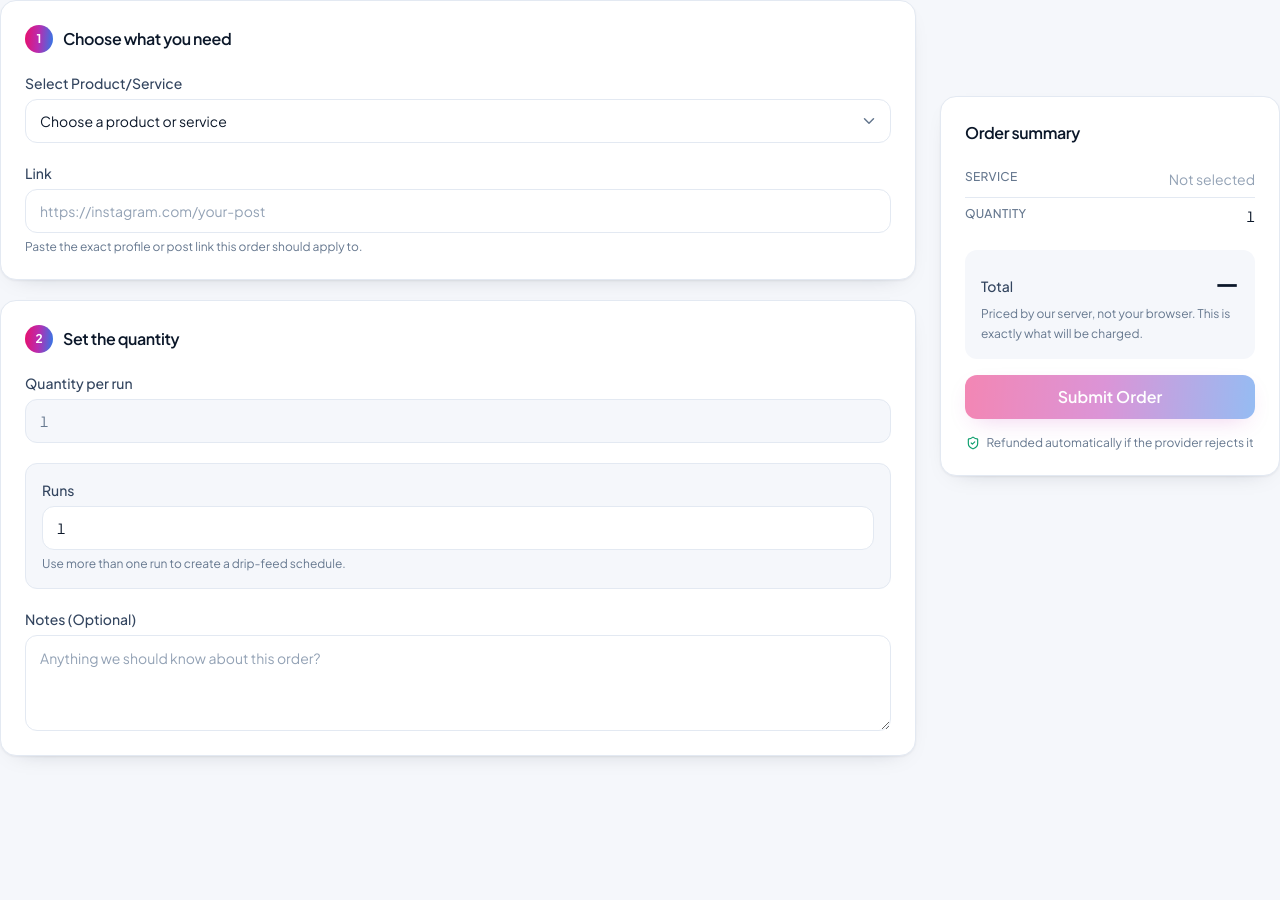
Scenario: OrderForm › displays the server quote rather than a locally computed total
Select "Followers (Rate: ₹125 per 1000)" in the dropdown labelled "Select Product/Service" at (458, 121), box [25,99,891,143]
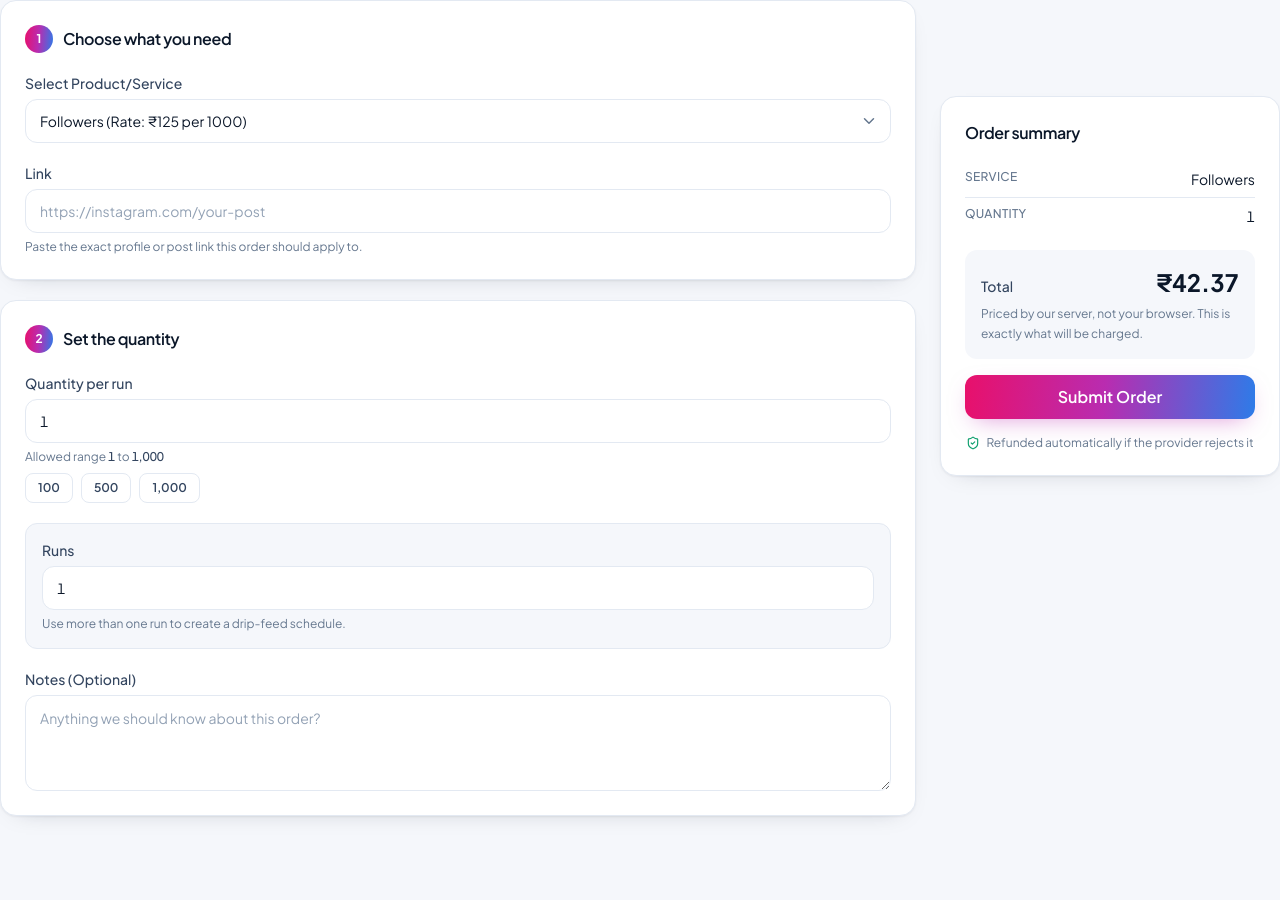
Check: the text with test id "order-total" reads "₹42.37", box [1156,267,1239,297]
